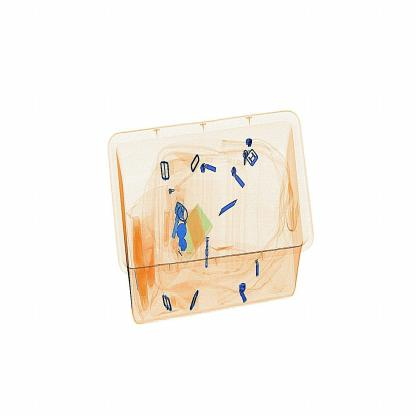pliers: (212, 192, 247, 222)
